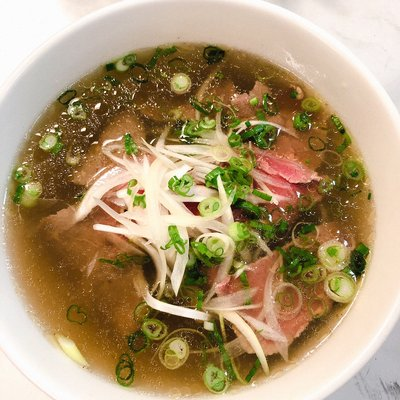curry: (347, 243, 370, 276), (168, 172, 195, 197), (292, 111, 312, 132)
